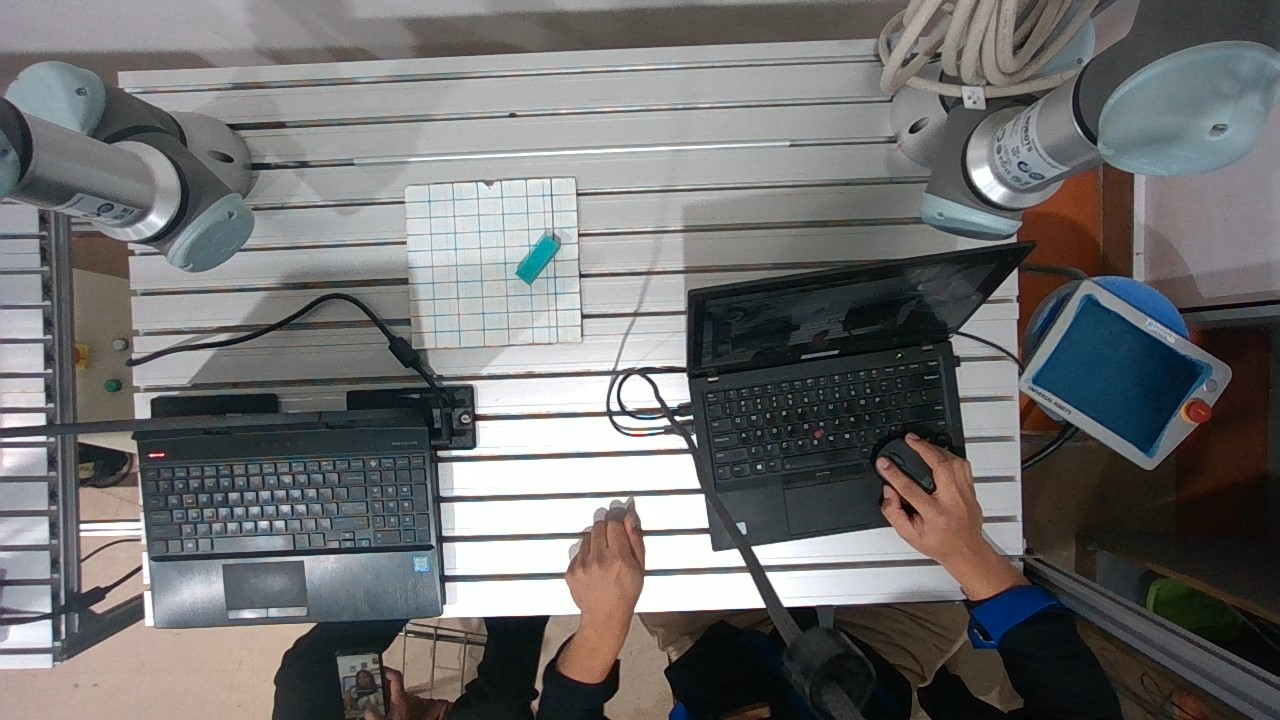box: (520, 207, 569, 299)
